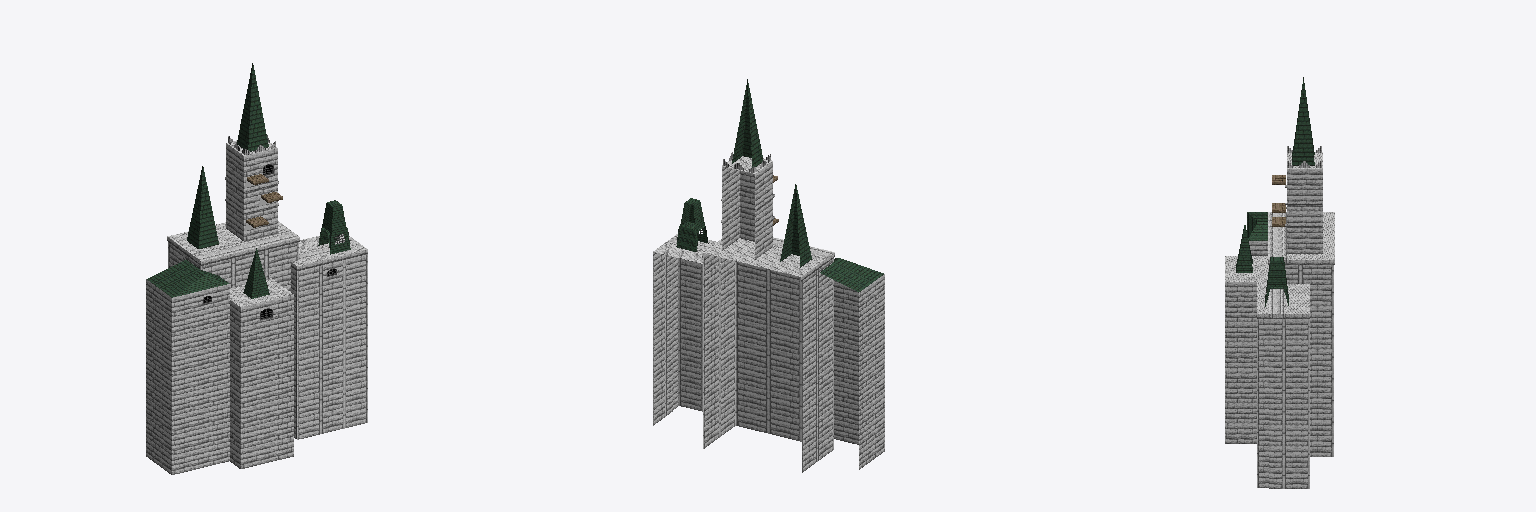
3 renders of one model, left to right at view 1: azimuth 30°, elevation 25°; view 2: azimuth 150°, elevation 25°; view 3: azimuth 270°, elevation 25°, orthographic.
Visible parts, largest first — view 1: rock_side, rock_side_2, green, rock_top, rock_lines, way, green_way; view 2: rock_side_2, rock_side, green, rock_top, green_way; view 3: rock_side_2, rock_side, rock_top, green, way, rock_lines.
Boxes of the visible parts, <box> form: rock_side: <box>146,143,293,474</box>; rock_side_2: <box>168,242,367,439</box>; green: <box>147,63,350,298</box>; rock_top: <box>167,140,366,306</box>; rock_lines: <box>167,177,367,270</box>; way: <box>192,230,360,260</box>; green_way: <box>152,200,349,289</box>; rock_side_2: <box>653,253,833,472</box>; rock_side: <box>722,162,884,469</box>; green: <box>677,79,883,291</box>; rock_top: <box>653,156,824,276</box>; green_way: <box>676,198,872,287</box>; rock_side_2: <box>1257,265,1333,488</box>; rock_side: <box>1225,169,1322,443</box>; rock_top: <box>1225,152,1334,313</box>; green: <box>1236,77,1314,306</box>; way: <box>1268,212,1286,313</box>; rock_lines: <box>1257,185,1334,318</box>.
Bounding box in the file's own units: 9.06 × 15.85 × 4.33.
14 materials, 13 textured.